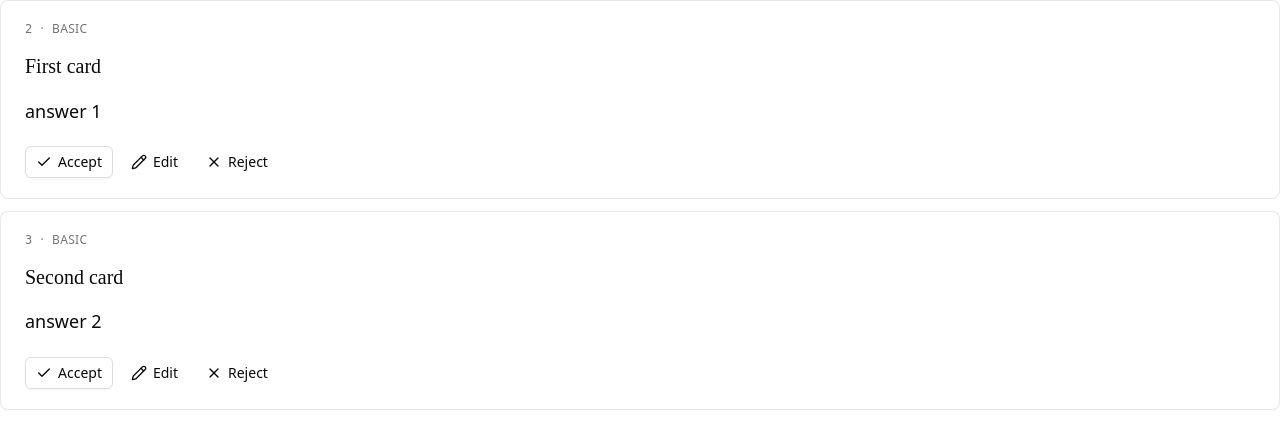
accepting and rejecting › accepts one card and takes it out of the list
Expected: the list item "First card" is shown, [25, 55, 101, 77]
Click the button "Accept" below "answer 1": (69, 162) [25, 146, 113, 178]
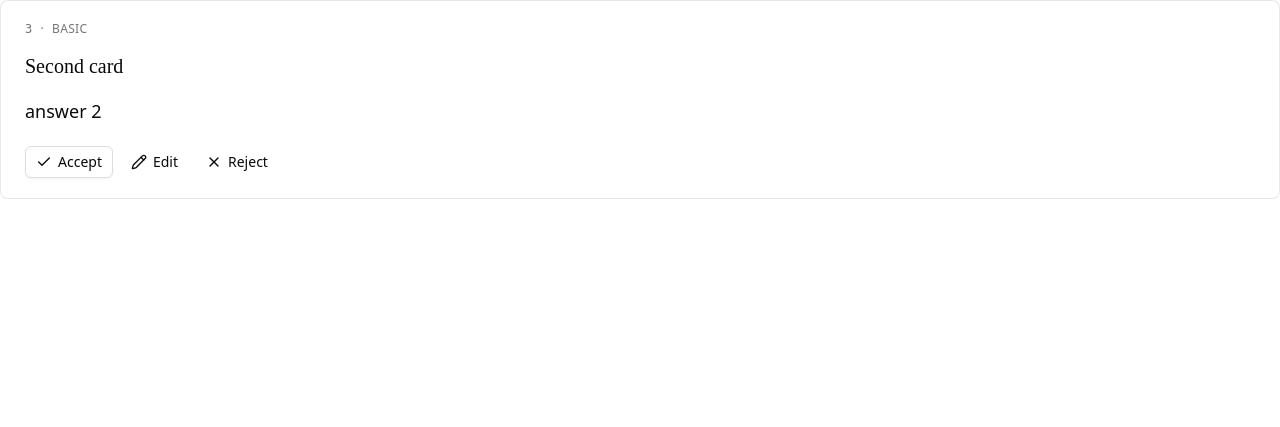
Expected: the text "Second card" is shown, [25, 55, 123, 77]
Result: the text "First card" is gone
